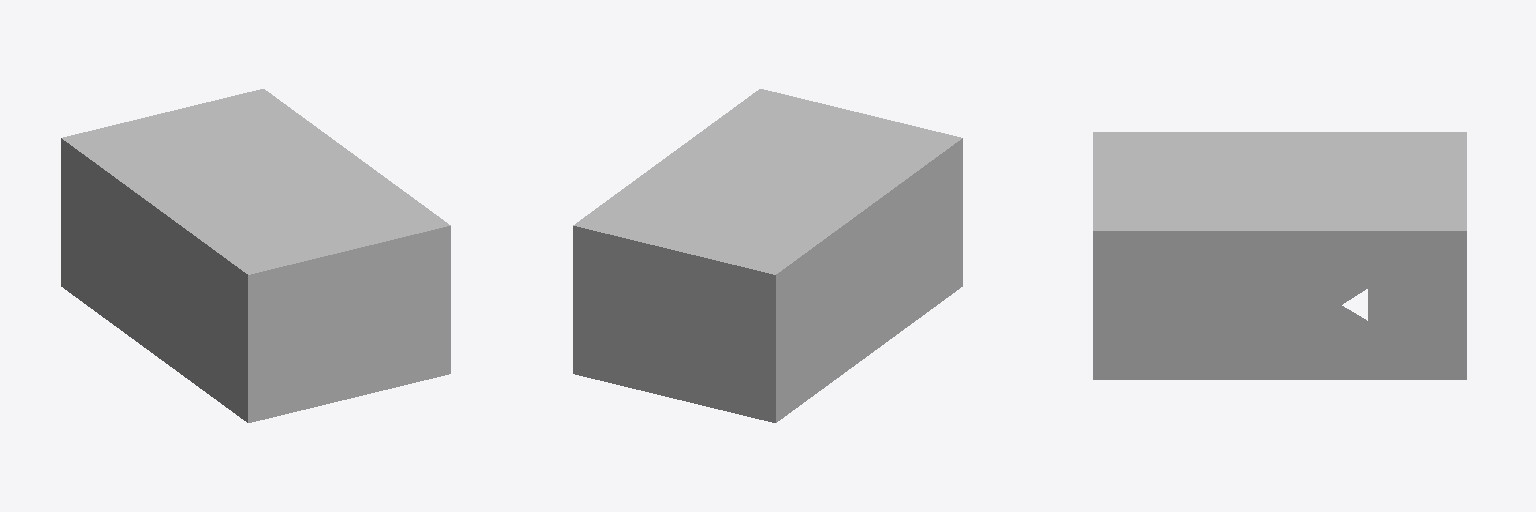
The model's file is walls.obj.
The picture shows the model from 3 angles: view 1: azimuth 30°, elevation 25°; view 2: azimuth 150°, elevation 25°; view 3: azimuth 270°, elevation 25°; orthographic projection.
Visible parts, largest first — view 1: Cube.030_Material.018; view 2: Cube.030_Material.018; view 3: Cube.030_Material.018.
Part boxes in pixels (left/top/right/bottom): Cube.030_Material.018: left=61, top=89, right=450, bottom=422; Cube.030_Material.018: left=573, top=89, right=962, bottom=422; Cube.030_Material.018: left=1093, top=132, right=1466, bottom=379.
Size of the model in its own units: 5 by 3.5 by 8.